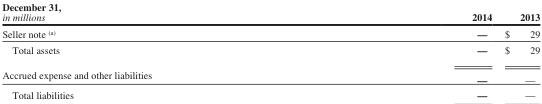table: (1, 0, 539, 100)
table column: (1, 0, 311, 100), (311, 0, 497, 100), (497, 0, 539, 100)
table column header: (1, 0, 539, 24)
table row: (1, 62, 539, 87), (1, 0, 539, 24), (1, 41, 539, 62), (1, 24, 539, 41), (1, 87, 539, 100)
